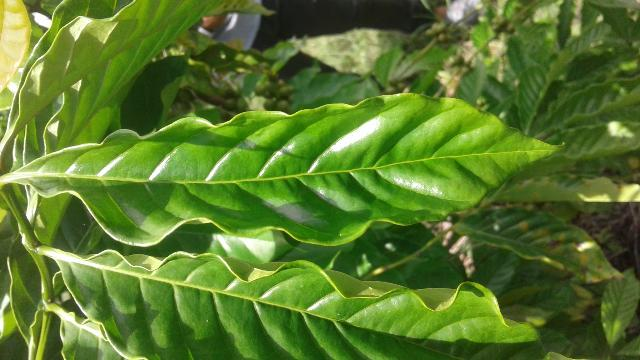healthy: (3, 87, 578, 247)
